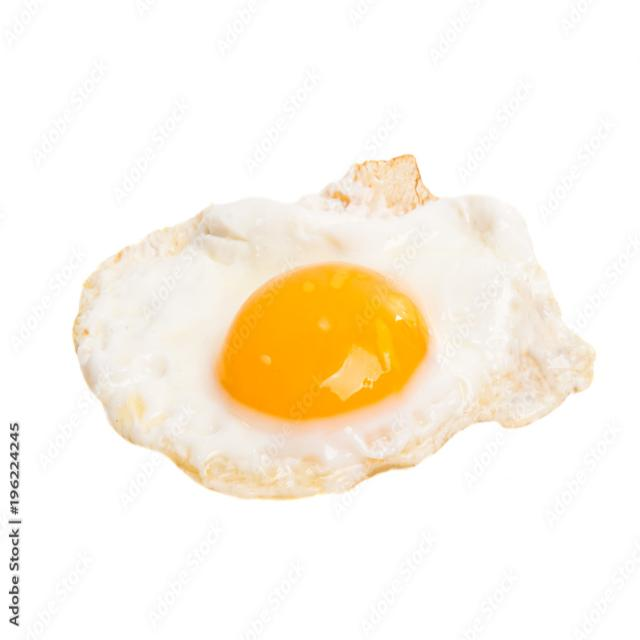Egg: (74, 156, 595, 499)
